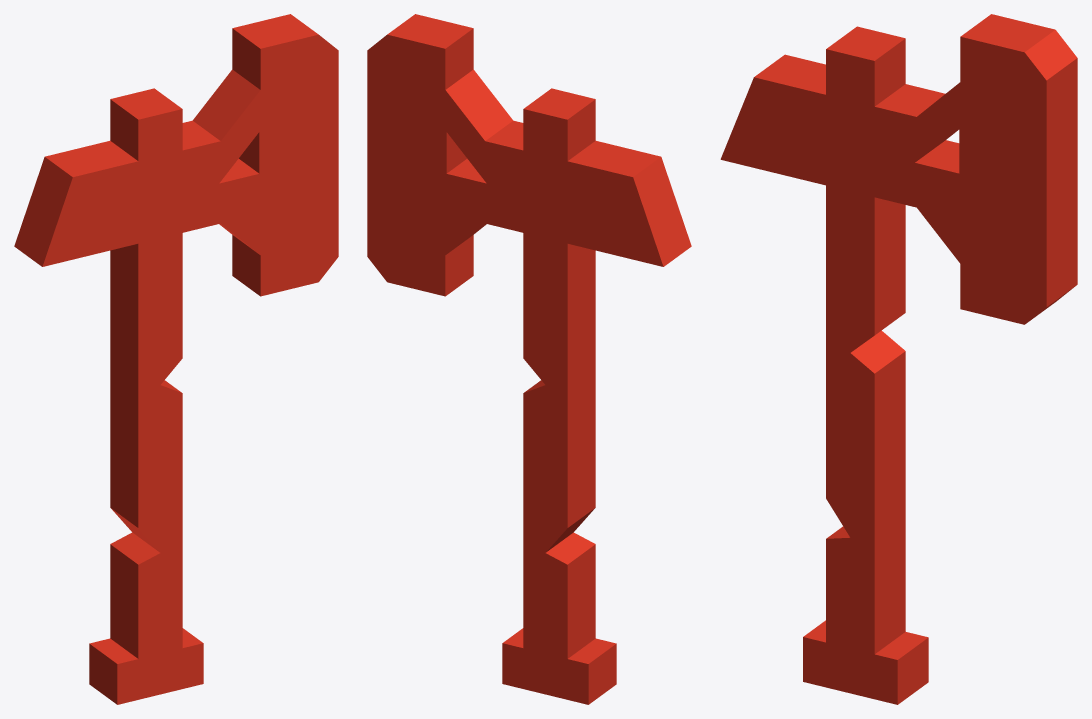
The model's file is Icon_Axe_02.fbx.
3 views of the same model, side by side, from view 1: azimuth 30°, elevation 25°; view 2: azimuth 150°, elevation 25°; view 3: azimuth 330°, elevation 25° (orthographic). The views are drawn at different scales.
Visible parts, largest first — view 1: Icon_Axe_02; view 2: Icon_Axe_02; view 3: Icon_Axe_02.
Part boxes in pixels (box(x1,y1,x2,y2)): Icon_Axe_02: box(14, 14, 338, 704); Icon_Axe_02: box(367, 14, 691, 704); Icon_Axe_02: box(720, 14, 1077, 704).
Size of the model in its own units: 39.01 by 78.14 by 6.42.
